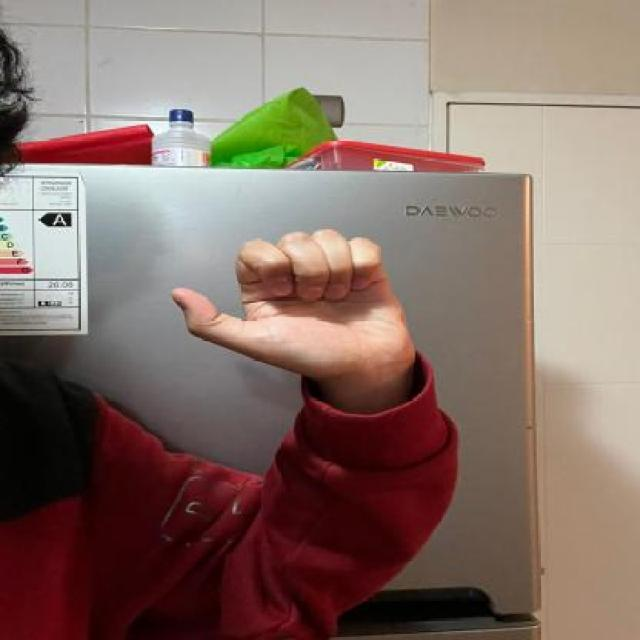E: (169, 225, 417, 370)
